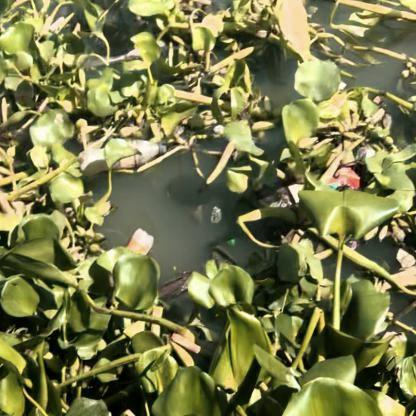Plastic: (78, 139, 166, 179)
